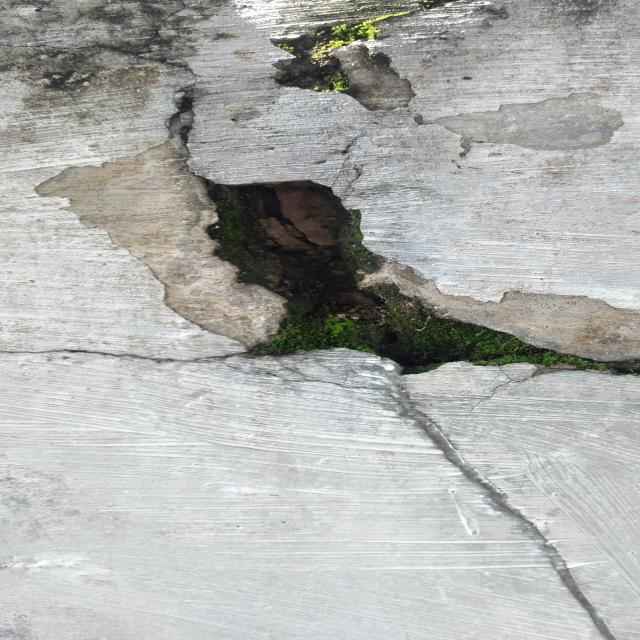Crack: (383, 381, 627, 639)
